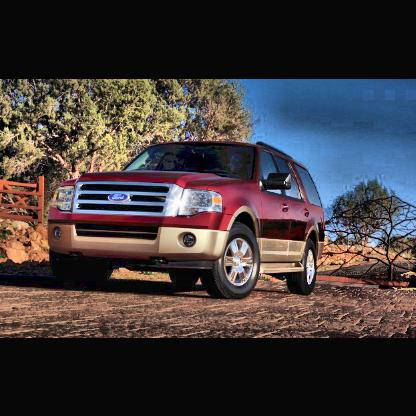Ford Expedition EL SUV 2009: (45, 140, 329, 302)
